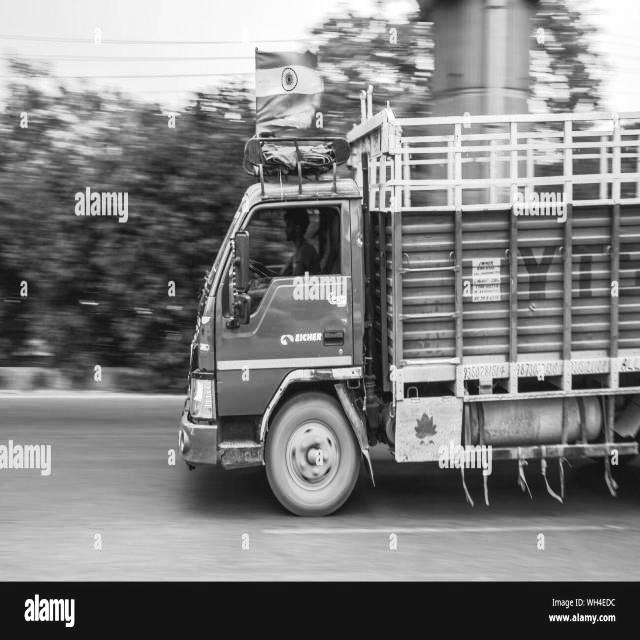HCV: (168, 41, 640, 530)
